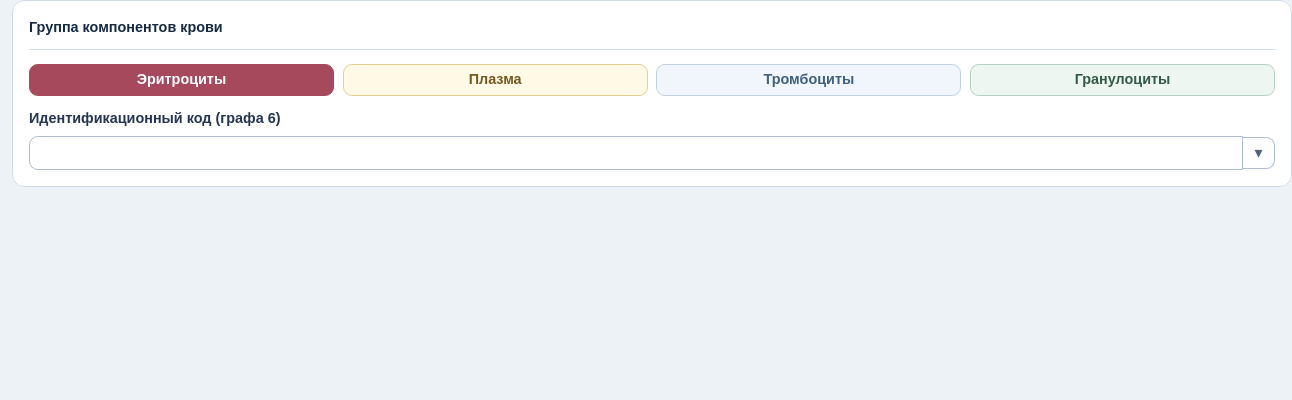
Test: shows custom entries above immutable coded options and populates both fields
The width and height of the screenshot is (1292, 400).
Click the button named "Показать сохранённые варианты: Идентификационный код (графа 6)" at (1259, 153), box [1243,137,1275,169]
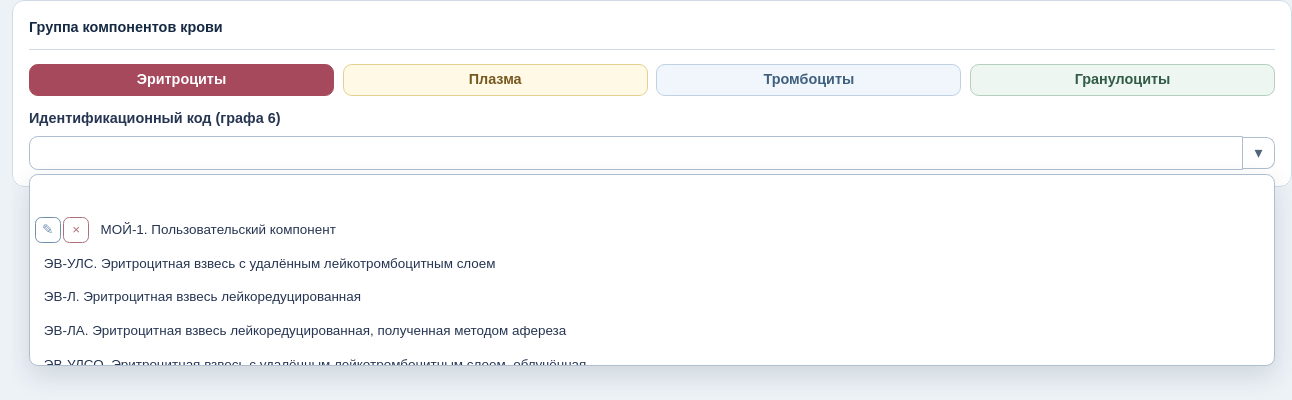
Click the button "МОЙ-1. Пользовательский компонент" at (218, 230), box [92,214,1259,246]
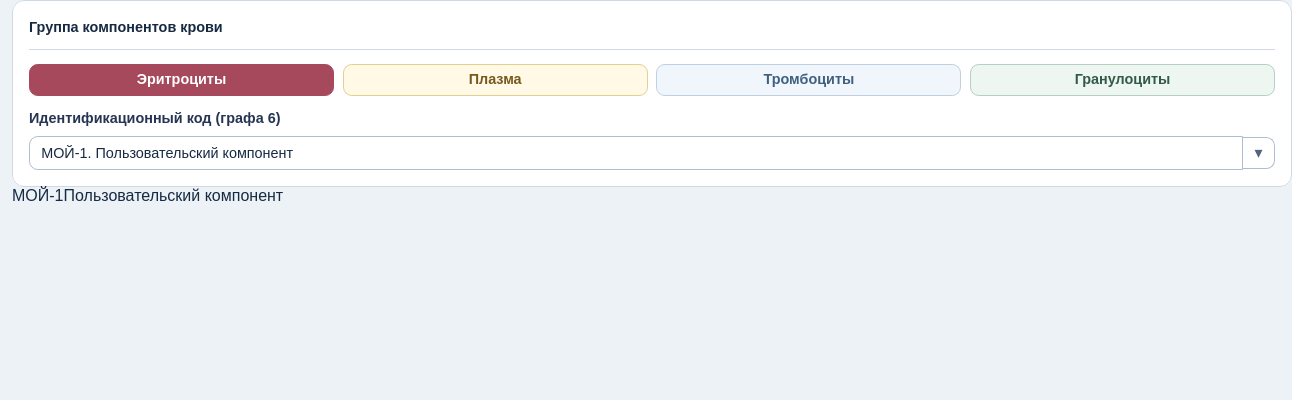
Now the text named "Код компонента" reads "МОЙ-1", box [12,187,64,204]
Now the text named "Название компонента" reads "Пользовательский компонент", box [64,187,283,204]
Now the field named "Идентификационный код (графа 6)" holds "МОЙ-1. Пользовательский компонент"
Replace the text in the field named "Идентификационный код (графа 6)" with "МОЙ-2. Новый вариант" at (636, 153), box [29,136,1243,170]
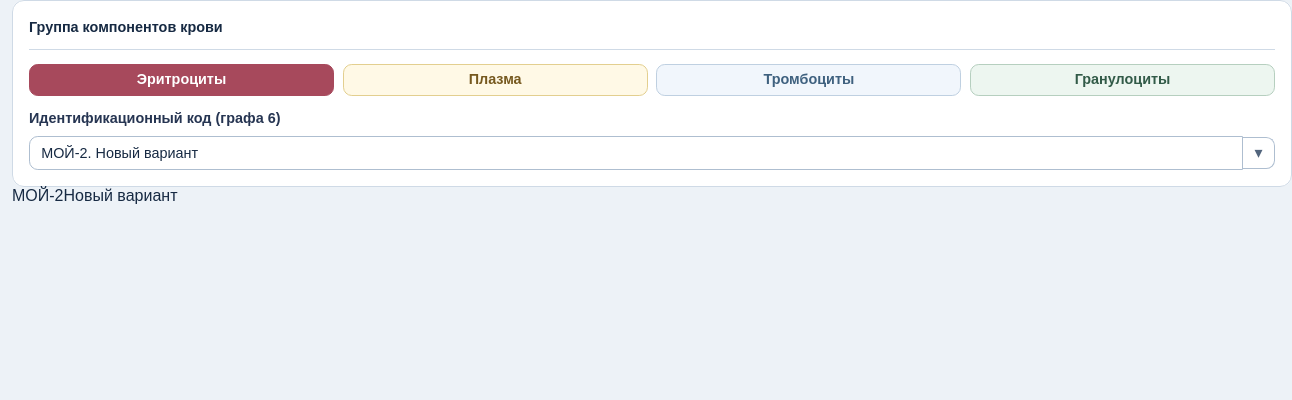
Now the text named "Код компонента" reads "МОЙ-2", box [12,187,64,204]
Now the text named "Название компонента" reads "Новый вариант", box [64,187,178,204]
